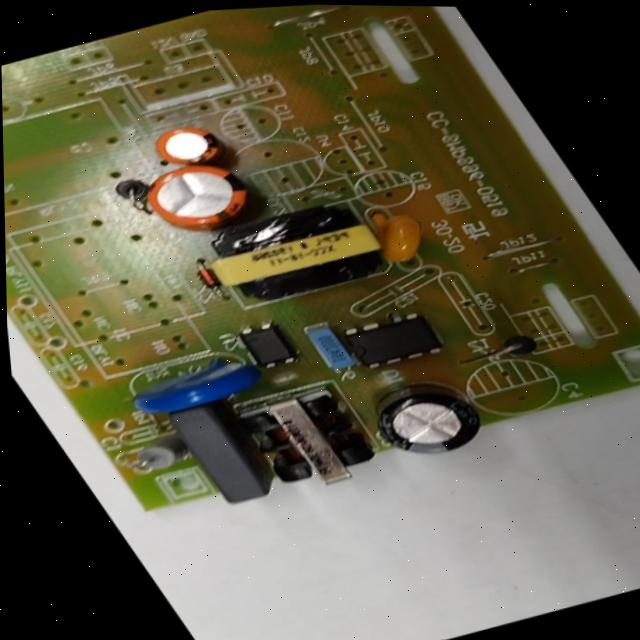Cap1: (135, 155, 263, 239)
Cap2: (147, 118, 230, 173)
Cap3: (354, 368, 494, 468)
MOSFET: (338, 307, 448, 372)
Mov: (117, 349, 268, 422)
Resistor: (122, 430, 197, 475)
Transformer: (188, 190, 396, 310), (224, 375, 395, 501)
